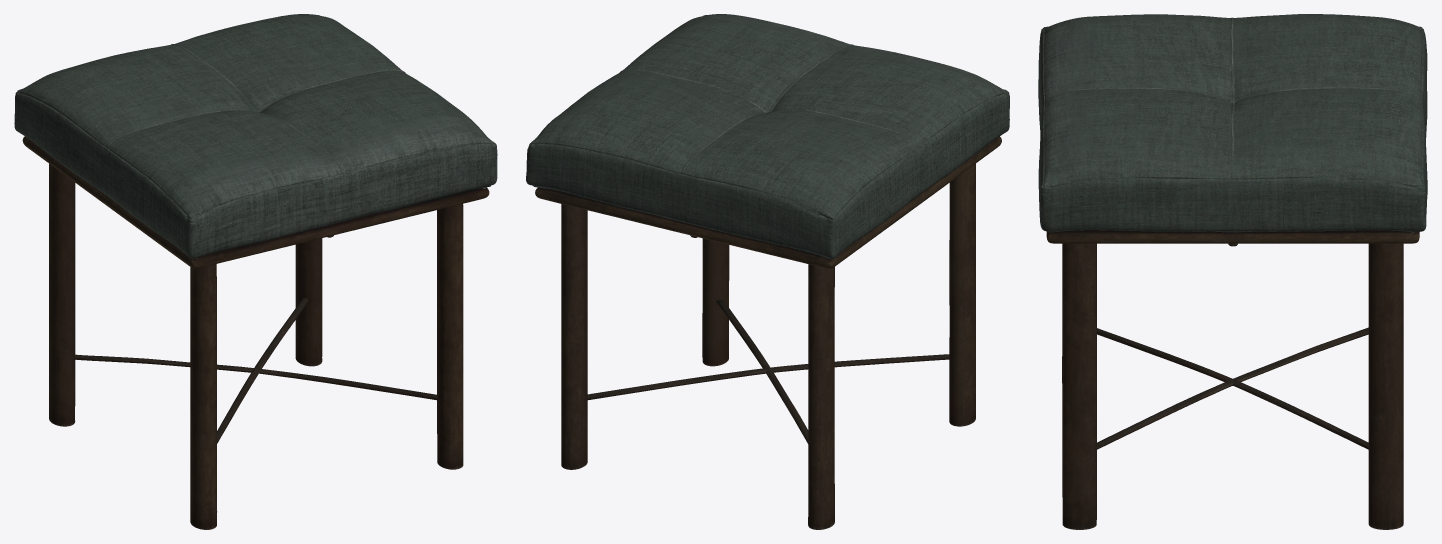
File: Bancosalatv.glb
3 renders of one model, left to right at view 1: azimuth 30°, elevation 25°; view 2: azimuth 150°, elevation 25°; view 3: azimuth 270°, elevation 25°, orthographic. The views are drawn at different scales.
Size of the model in its own units: 0.3733 by 0.4 by 0.3728.
1 material, 1 textured.
